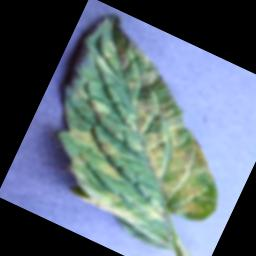Leaf_Mold: (98, 86, 250, 228), (62, 165, 146, 224), (66, 120, 100, 149), (94, 157, 126, 182), (142, 202, 169, 227)
